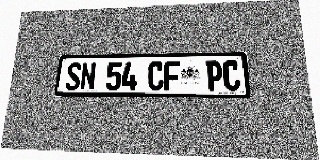4: (121, 62, 137, 91)
5: (106, 62, 122, 91)
C: (222, 60, 241, 91), (148, 61, 164, 91)
F: (164, 61, 180, 91)
N: (80, 62, 96, 90)
P: (206, 61, 223, 91)
S: (65, 62, 82, 90)
